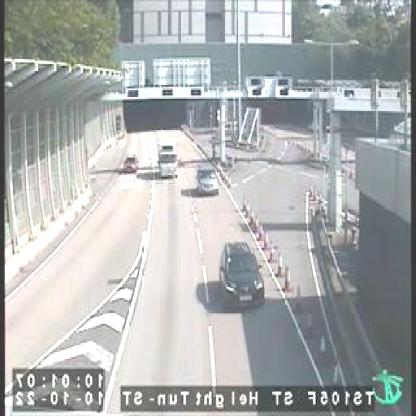Car: (218, 238, 264, 306), (198, 164, 220, 194), (124, 153, 140, 173)
Truck: (157, 137, 176, 180)
